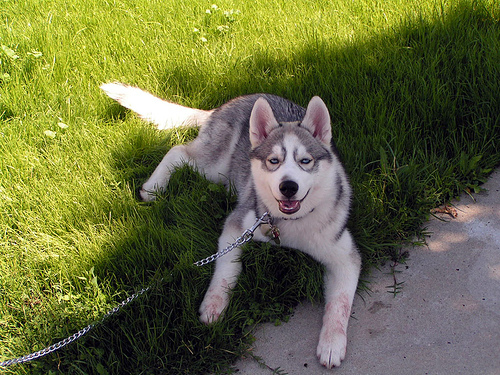dog: (100, 79, 363, 367)
